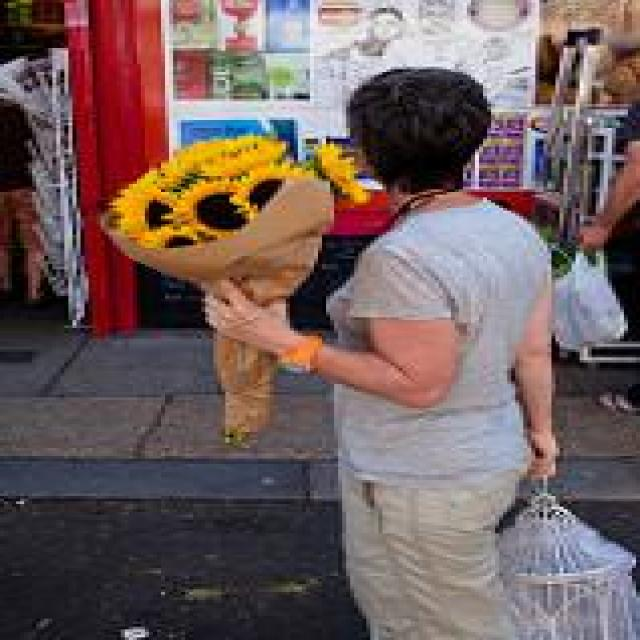sunflower: (167, 176, 260, 235), (303, 137, 372, 206), (119, 185, 187, 247), (241, 167, 294, 209)
